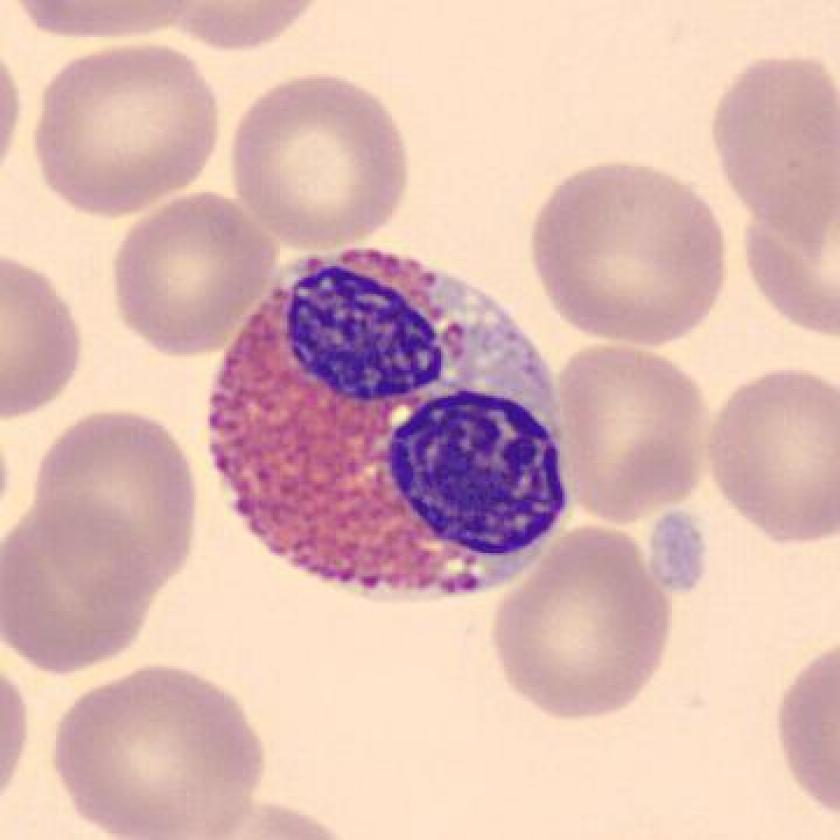eosinophil: (193, 233, 592, 610)
